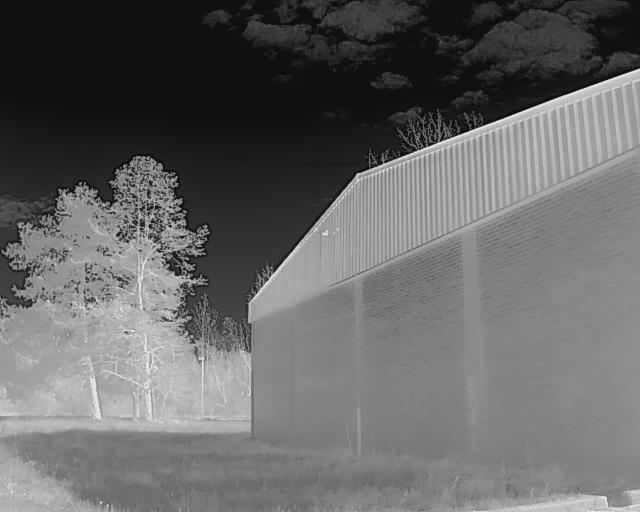drone: (310, 227, 343, 243)
